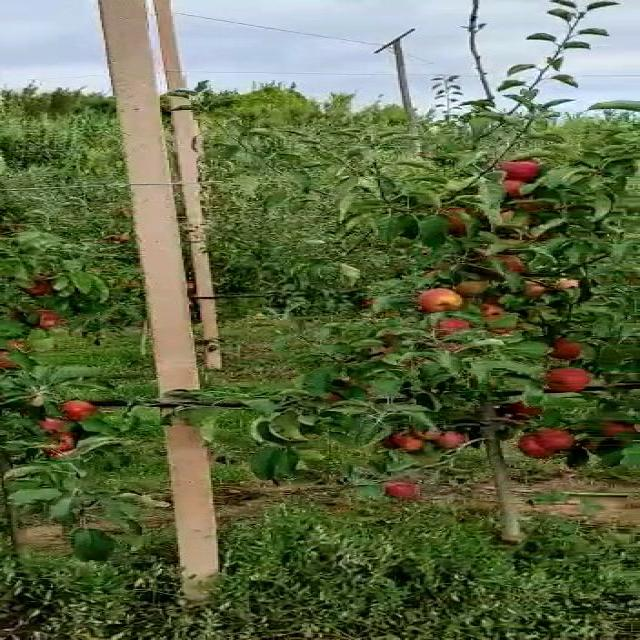100-_ripeness: (486, 157, 549, 186), (508, 432, 568, 460), (531, 421, 585, 452), (42, 398, 98, 427), (542, 367, 604, 392), (413, 288, 471, 313), (442, 204, 482, 238), (35, 434, 87, 459), (536, 339, 588, 363), (494, 176, 534, 202), (425, 321, 473, 341), (388, 430, 426, 453), (429, 429, 475, 448), (411, 424, 447, 445), (33, 308, 67, 329), (18, 277, 60, 294), (453, 277, 487, 298)
